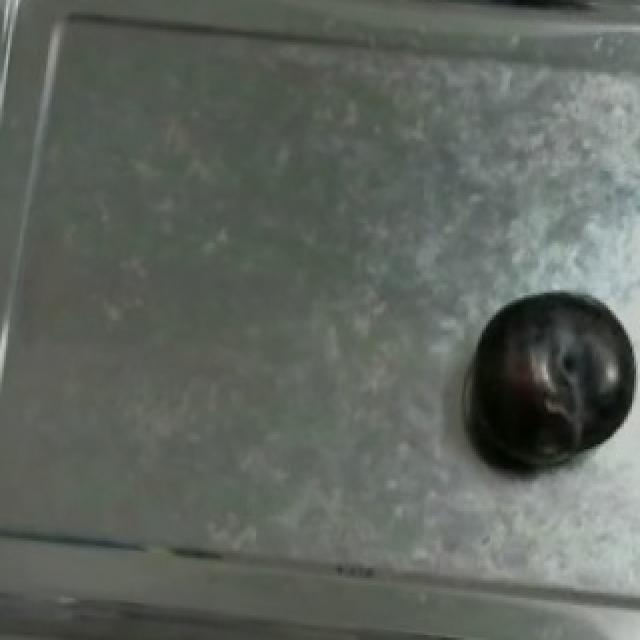Fruit: (450, 270, 640, 484)
